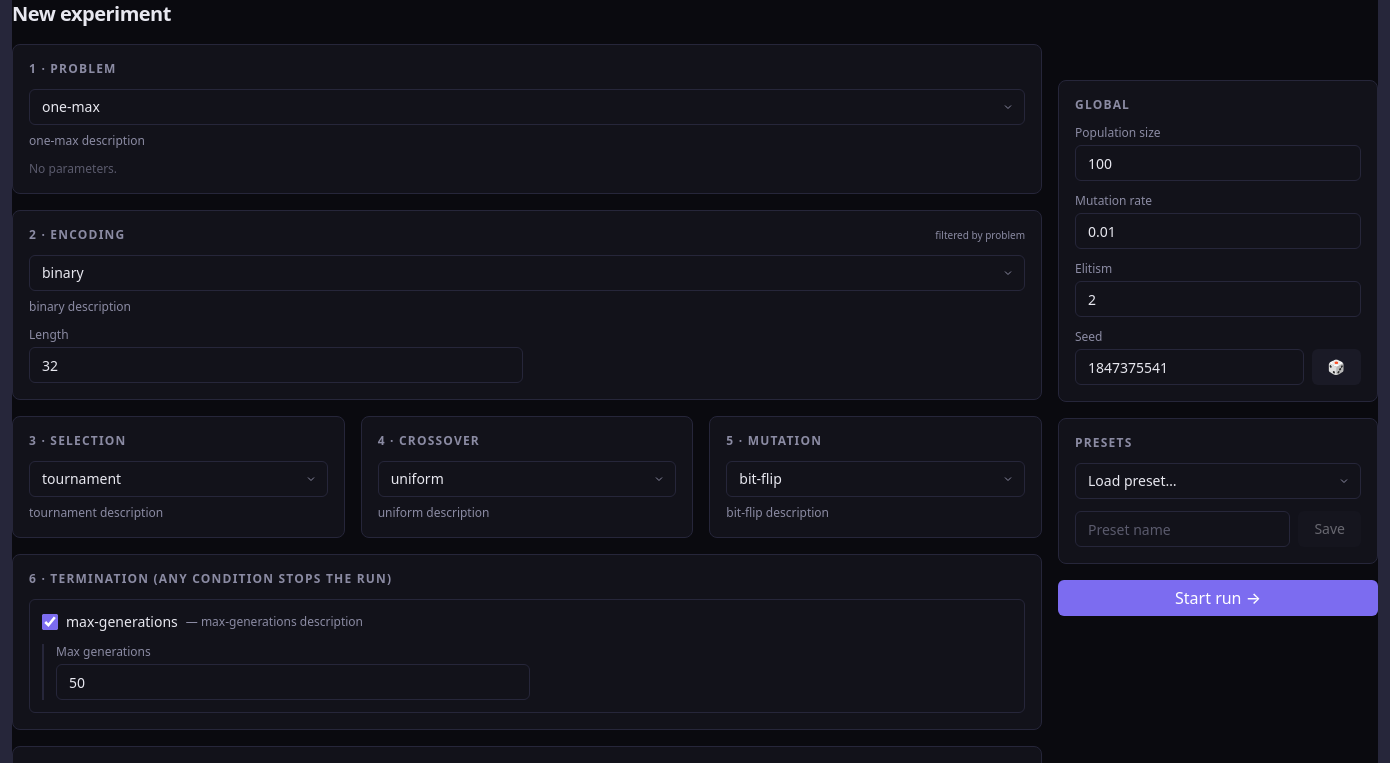
Test: not offering a run that cannot possibly work › moves off the in-process evaluator when the problem cannot use it
Select "image-prompt" in the dropdown below "1 · Problem" at (527,107), box [29,89,1025,125]
(page scrolled)
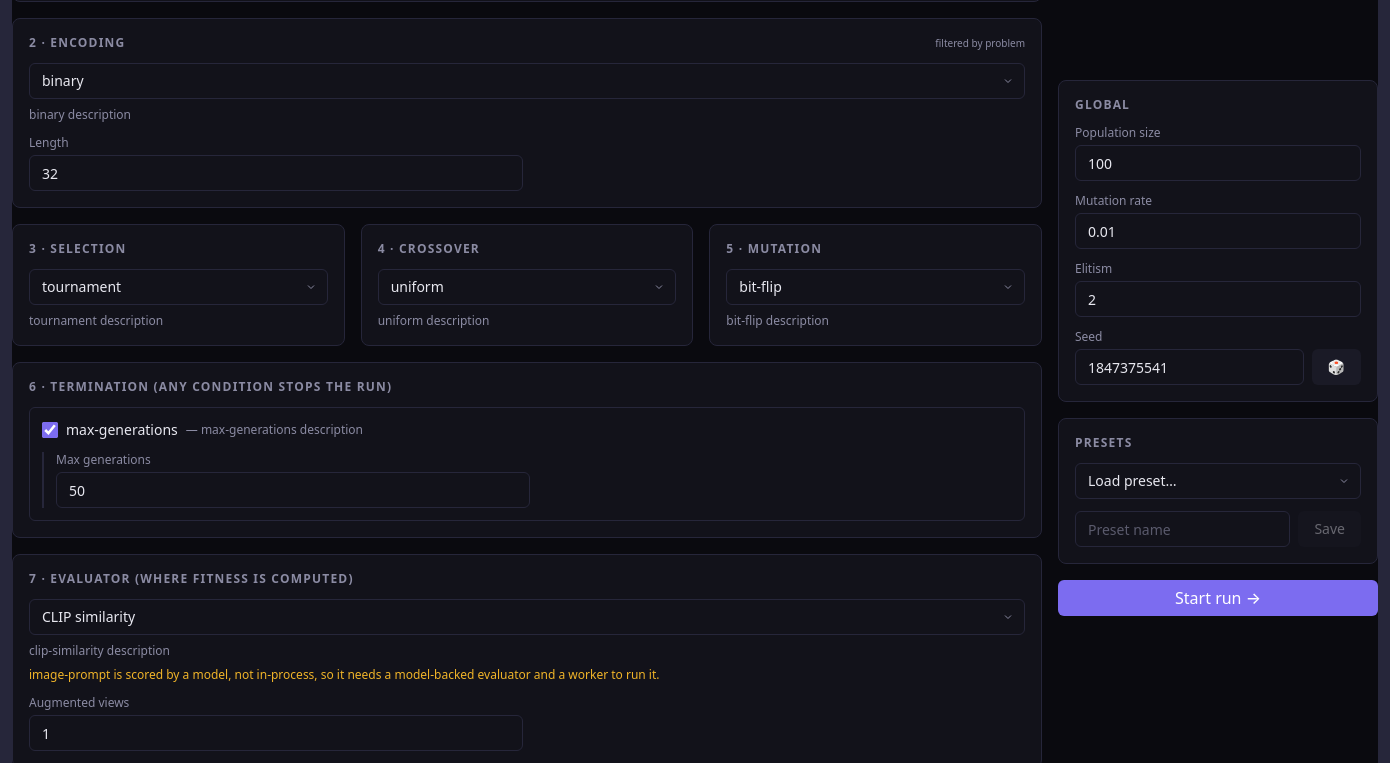
Expected: the 6th dropdown shows "CLIP similarity", [29,599,1025,635]
